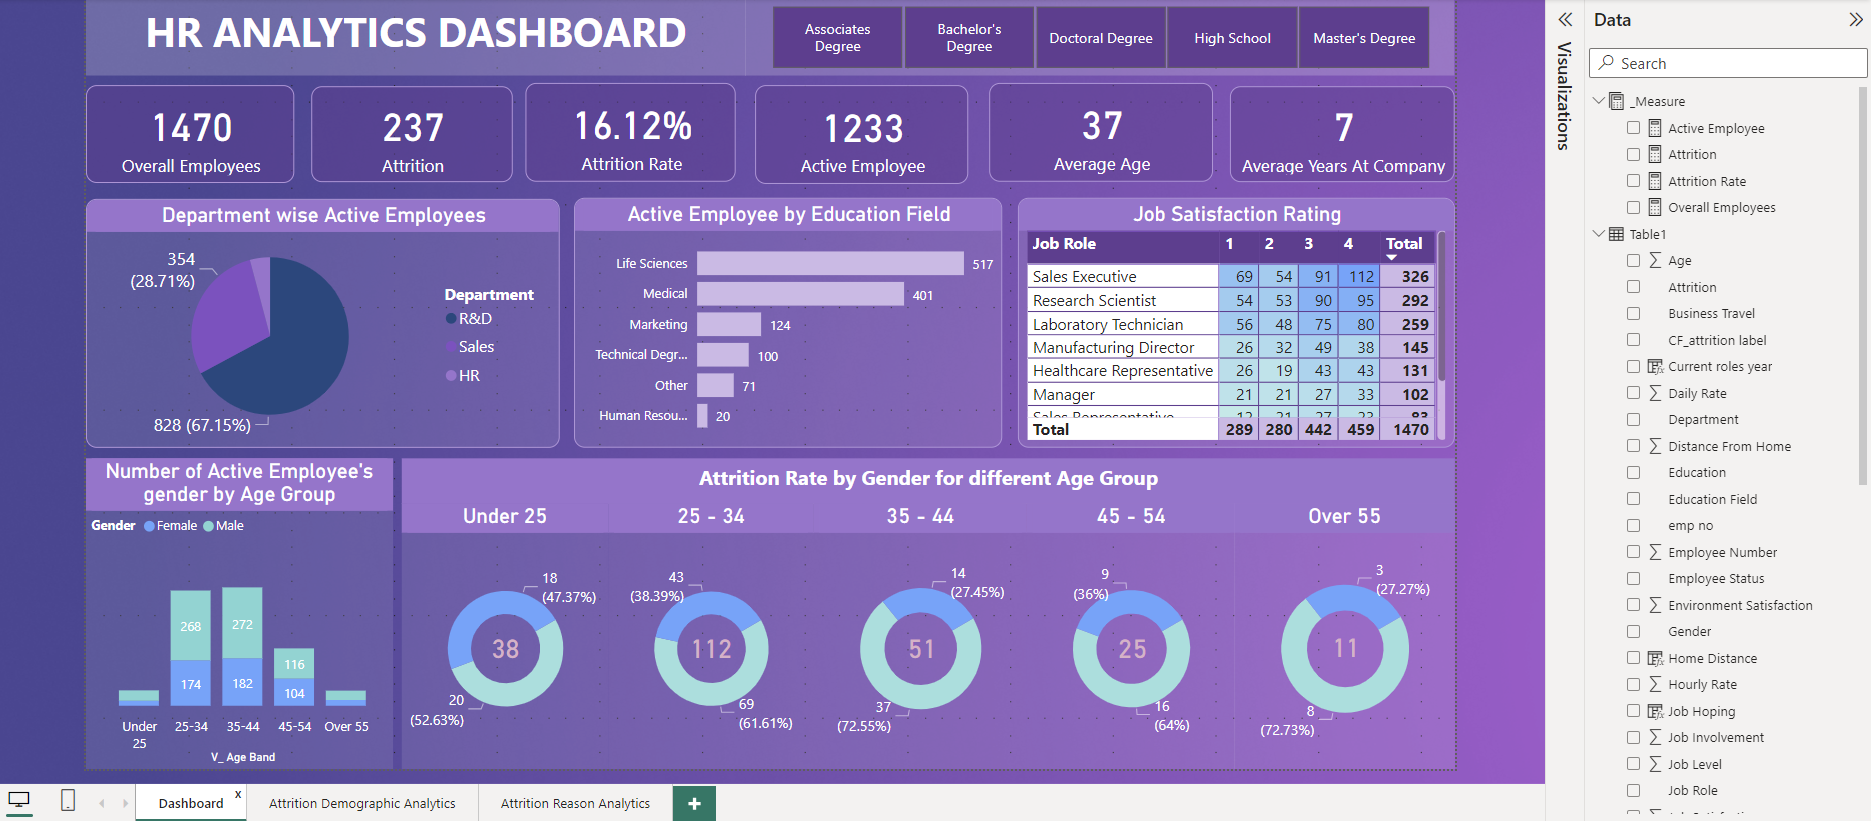

The page's visual inventory and layout, read from the dashboard file:
{"tool":"powerbi","page":{"name":"Dashboard","canvas":[1280,720],"ordinal":0},"visuals":[{"type":"textbox","box":[0,0,616.6,71.4],"z":0},{"type":"slicer","fields":{"Values":["Table1.Education"]},"box":[616.6,0,663.4,71.4],"z":1000},{"type":"card","fields":{"Values":["_Measure.Overall Employees"]},"box":[0,80,194.5,91.1],"z":2000},{"type":"card","fields":{"Values":["_Measure.Attrition"]},"box":[210.5,81.2,188.3,89.8],"z":3000},{"type":"card","fields":{"Values":["_Measure.Attrition Rate"]},"box":[411.1,78.8,196.9,92.3],"z":4000},{"type":"card","fields":{"Values":["_Measure.Active Employee"]},"box":[625.2,80,199.4,92.3],"z":5000},{"type":"card","fields":{"Values":["Avg(Table1.Age)"]},"box":[844.3,78.8,209.2,92.3],"z":6000},{"type":"card","fields":{"Values":["Avg(Table1.Years At Company)"]},"box":[1069.5,81.2,210.5,89.8],"z":7000},{"type":"pieChart","title":"Department wise Active Employees","fields":{"Category":["Table1.Department"],"Y":["_Measure.Active Employee"]},"box":[0,187.1,443.1,232.6],"z":8000},{"type":"columnChart","title":"Number of Active Employee''s gender by Age Group","fields":{"Series":["Table1.Gender"],"Category":["Table1.V_ Age Band"],"Y":["_Measure.Active Employee"]},"box":[0,429.5,286.8,290.5],"z":9000},{"type":"pivotTable","title":"Job Satisfaction Rating","fields":{"Rows":["Table1.Job Role"],"Values":["_Measure.Overall Employees"],"Columns":["Table1.Job Satisfaction"]},"box":[871.4,185.8,408.6,233.8],"z":10000},{"type":"clusteredBarChart","fields":{"Category":["Table1.Education Field"],"Y":["_Measure.Active Employee"]},"box":[456.6,185.8,400,233.8],"z":11000},{"type":"donutChart","title":"Under 25","fields":{"Category":["Table1.Gender"],"Series":["Table1.V_ Age Band"],"Y":["_Measure.Attrition"]},"box":[295.4,471.4,193.2,248.6],"z":12000},{"type":"textbox","box":[295.2,429.4,984.8,42.3],"z":13000},{"type":"donutChart","title":"25 - 34","fields":{"Category":["Table1.Gender"],"Series":["Table1.V_ Age Band"],"Y":["_Measure.Attrition"]},"box":[488.6,471.4,192,248.6],"z":14000},{"type":"donutChart","title":"35 - 44","fields":{"Y":["_Measure.Attrition"],"Category":["Table1.Gender"],"Series":["Table1.V_ Age Band"]},"box":[680.6,471.4,199.4,248.6],"z":15000},{"type":"donutChart","title":"45 - 54","fields":{"Y":["_Measure.Attrition"],"Category":["Table1.Gender"],"Series":["Table1.V_ Age Band"]},"box":[879.5,471.2,195.1,248.8],"z":16000},{"type":"donutChart","title":"Over 55","fields":{"Y":["_Measure.Attrition"],"Category":["Table1.Gender"],"Series":["Table1.V_ Age Band"]},"box":[1073.5,471.7,206.5,248.8],"z":17000},{"type":"card","fields":{"Values":["_Measure.Attrition"]},"box":[348.3,583.4,87.4,45.5],"z":18000},{"type":"card","fields":{"Values":["_Measure.Attrition"]},"box":[540.3,583.4,87.4,45.5],"z":19000},{"type":"card","fields":{"Values":["_Measure.Attrition"]},"box":[737.2,583.4,87.4,45.5],"z":20000},{"type":"card","fields":{"Values":["_Measure.Attrition"]},"box":[934.2,583.4,87.4,45.5],"z":21000},{"type":"card","fields":{"Values":["_Measure.Attrition"]},"box":[1133.5,582.2,87.4,45.5],"z":22000}]}

Visuals, with their boxes on the page's 1280x720 design canvas (x1, y1, x2, y2). These are canvas units, not pixel positions in the 1871x821 screenshot, which may show the page scaled, cropped or inside an application window:
textbox: {"left": 0, "top": 0, "right": 617, "bottom": 71}
slicer - Table1.Education: {"left": 617, "top": 0, "right": 1280, "bottom": 71}
card - _Measure.Overall Employees: {"left": 0, "top": 80, "right": 194, "bottom": 171}
card - _Measure.Attrition: {"left": 210, "top": 81, "right": 399, "bottom": 171}
card - _Measure.Attrition Rate: {"left": 411, "top": 79, "right": 608, "bottom": 171}
card - _Measure.Active Employee: {"left": 625, "top": 80, "right": 825, "bottom": 172}
card - Avg(Table1.Age): {"left": 844, "top": 79, "right": 1054, "bottom": 171}
card - Avg(Table1.Years At Company): {"left": 1070, "top": 81, "right": 1280, "bottom": 171}
"Department wise Active Employees" pieChart: {"left": 0, "top": 187, "right": 443, "bottom": 420}
"Number of Active Employee''s gender by Age Group" columnChart: {"left": 0, "top": 430, "right": 287, "bottom": 720}
"Job Satisfaction Rating" pivotTable: {"left": 871, "top": 186, "right": 1280, "bottom": 420}
clusteredBarChart - Table1.Education Field x _Measure.Active Employee: {"left": 457, "top": 186, "right": 857, "bottom": 420}
"Under 25" donutChart: {"left": 295, "top": 471, "right": 489, "bottom": 720}
textbox: {"left": 295, "top": 429, "right": 1280, "bottom": 472}
"25 - 34" donutChart: {"left": 489, "top": 471, "right": 681, "bottom": 720}
"35 - 44" donutChart: {"left": 681, "top": 471, "right": 880, "bottom": 720}
"45 - 54" donutChart: {"left": 880, "top": 471, "right": 1075, "bottom": 720}
"Over 55" donutChart: {"left": 1074, "top": 472, "right": 1280, "bottom": 720}
card - _Measure.Attrition: {"left": 348, "top": 583, "right": 436, "bottom": 629}
card - _Measure.Attrition: {"left": 540, "top": 583, "right": 628, "bottom": 629}
card - _Measure.Attrition: {"left": 737, "top": 583, "right": 825, "bottom": 629}
card - _Measure.Attrition: {"left": 934, "top": 583, "right": 1022, "bottom": 629}
card - _Measure.Attrition: {"left": 1134, "top": 582, "right": 1221, "bottom": 628}
